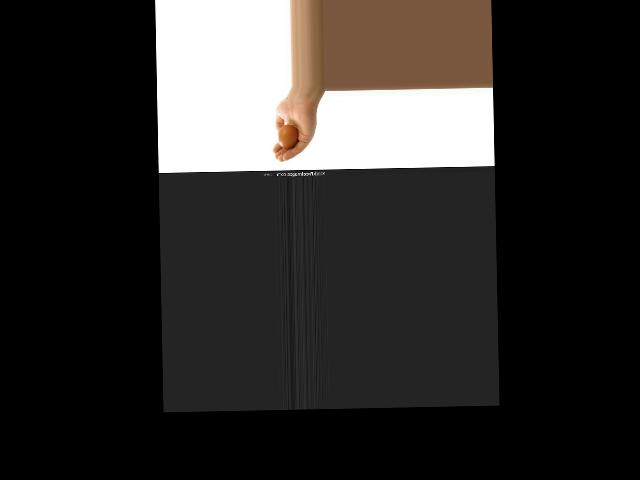egg: (278, 124, 298, 150)
